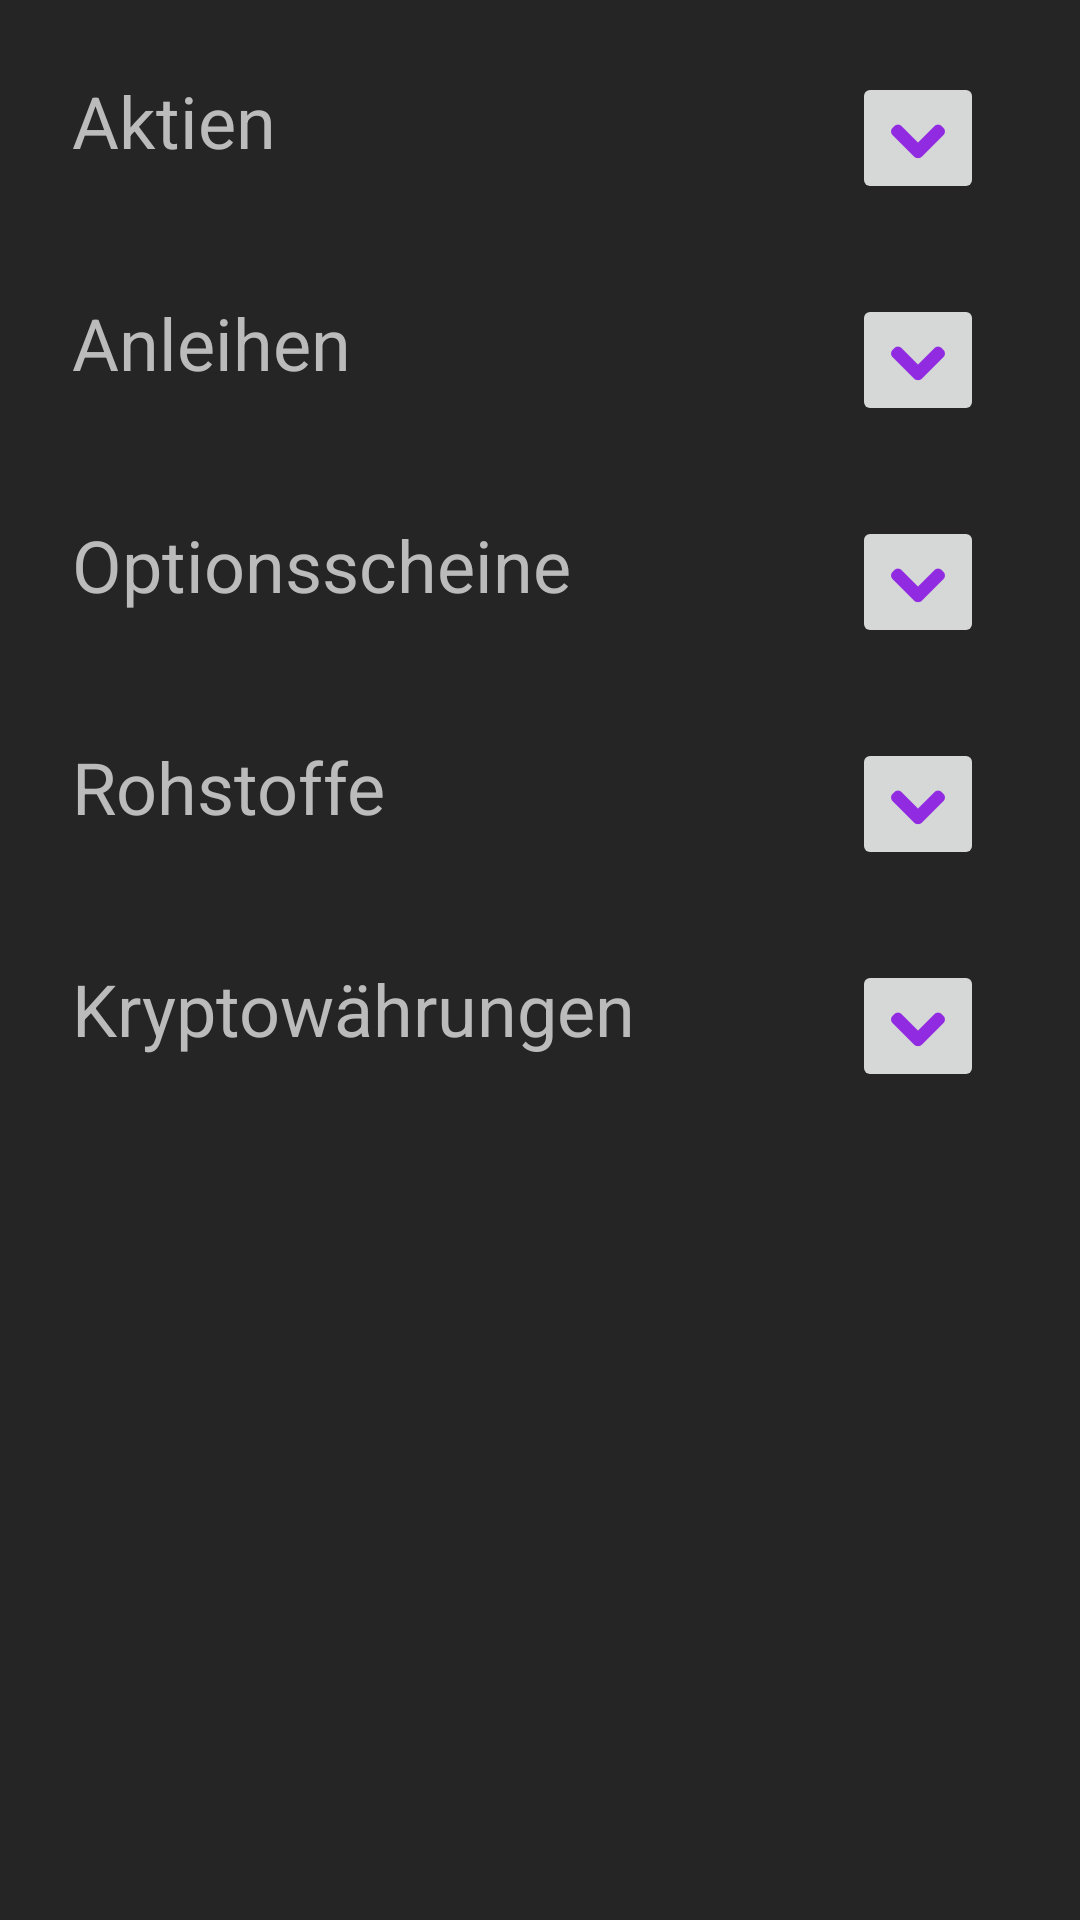

Icon click points for this 1080w x 1920h phone screenshot, format (x,y):
arrow down: (918,138), (918,360), (918,582), (918,804), (918,1026)
